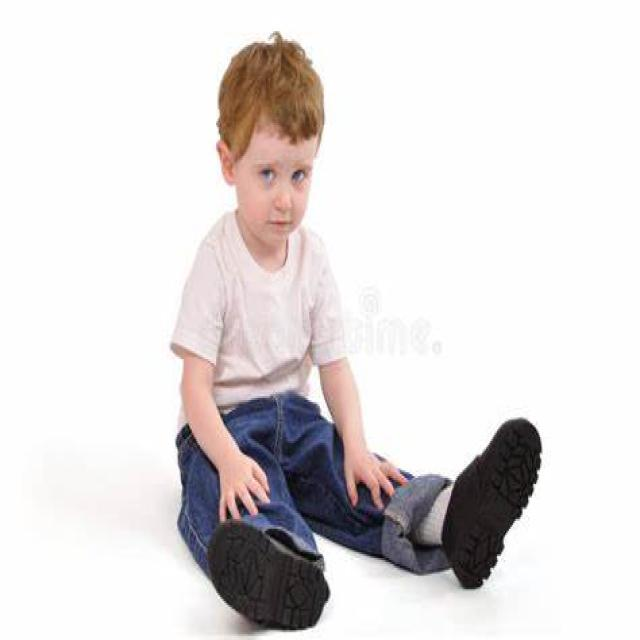sit: (184, 33, 501, 619)
